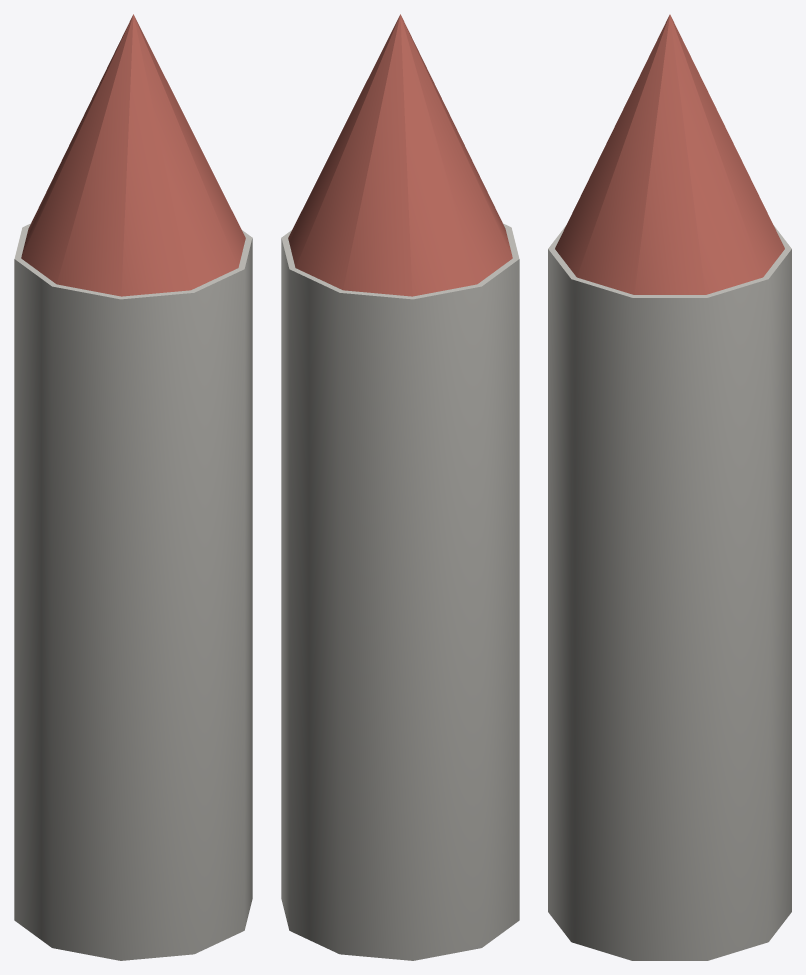
The model's file is m_uplink_648f0b4e.glb.
3 renders of one model, left to right at view 1: azimuth 30°, elevation 25°; view 2: azimuth 150°, elevation 25°; view 3: azimuth 270°, elevation 25°, orthographic.
Parts seen in each view (by area): view 1: mesh; view 2: mesh; view 3: mesh.
Part boxes in pixels (<box>): mesh: <box>14,14,252,960</box>; mesh: <box>281,14,519,960</box>; mesh: <box>548,14,791,960</box>.
Size of the model in its own units: 7.61 by 32.5 by 8.
